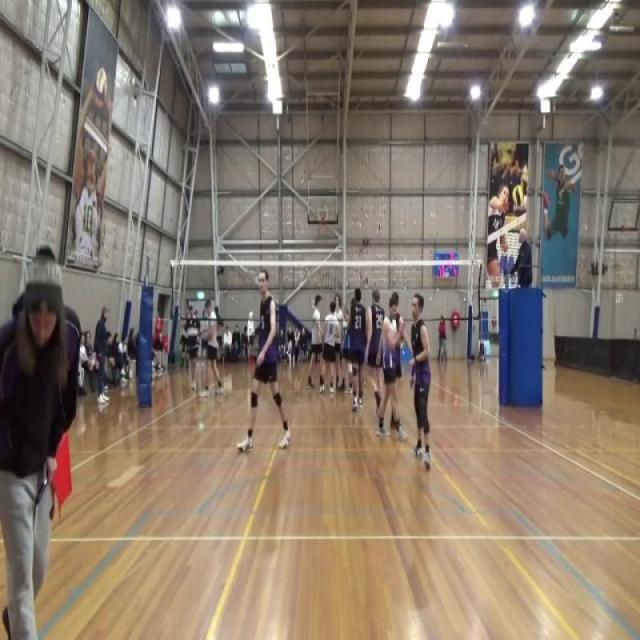volleyball: (93, 66, 107, 108), (512, 185, 524, 208)
